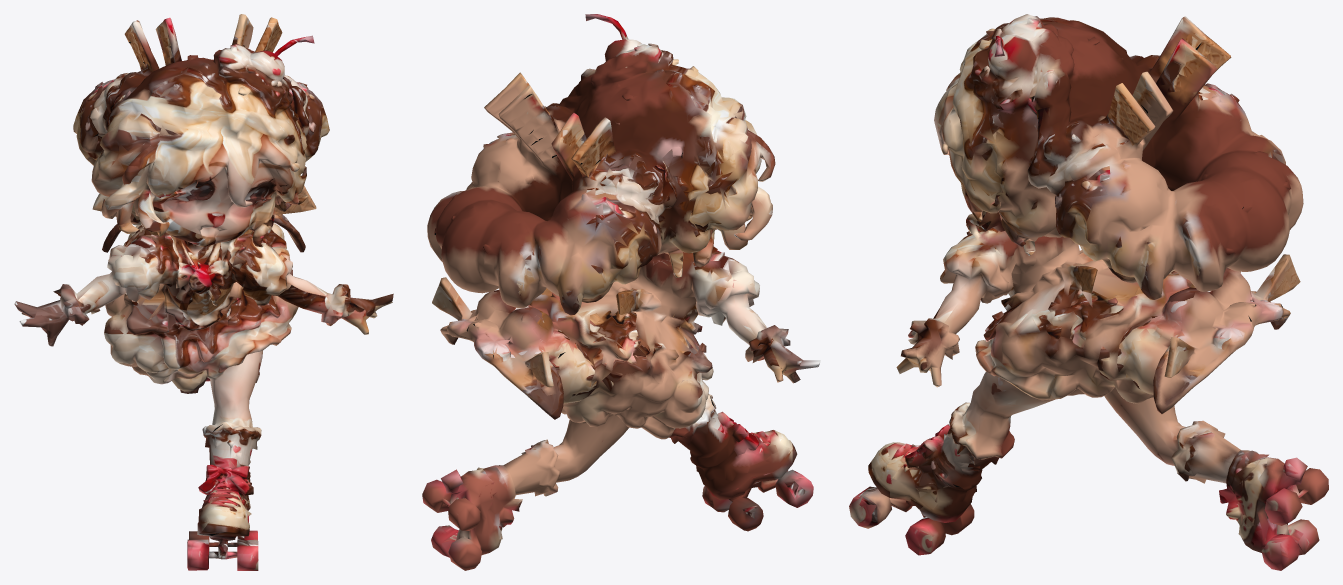
The model's file is dessert_skater_roblox.glb.
3 views of the same model, side by side, from view 1: azimuth 30°, elevation 25°; view 2: azimuth 150°, elevation 25°; view 3: azimuth 270°, elevation 25° (orthographic). The views are drawn at different scales.
Parts seen in each view (by area): view 1: DessertDessertSkater_Part003, DessertDessertSkater_Part002, DessertDessertSkater_Eyes; view 2: DessertDessertSkater_Part002, DessertDessertSkater_Part003; view 3: DessertDessertSkater_Part002, DessertDessertSkater_Part003.
Boxes of the visible parts, x1=… form: DessertDessertSkater_Part003: x1=14, y1=14, x2=393, y2=570; DessertDessertSkater_Part002: x1=14, y1=18, x2=390, y2=569; DessertDessertSkater_Eyes: x1=197, y1=158, x2=272, y2=229; DessertDessertSkater_Part002: x1=422, y1=14, x2=820, y2=570; DessertDessertSkater_Part003: x1=432, y1=14, x2=820, y2=556; DessertDessertSkater_Part002: x1=849, y1=15, x2=1328, y2=570; DessertDessertSkater_Part003: x1=849, y1=14, x2=1303, y2=570.
Size of the model in its own units: 2.62 by 3.57 by 2.79.
2 materials, 2 textured.
